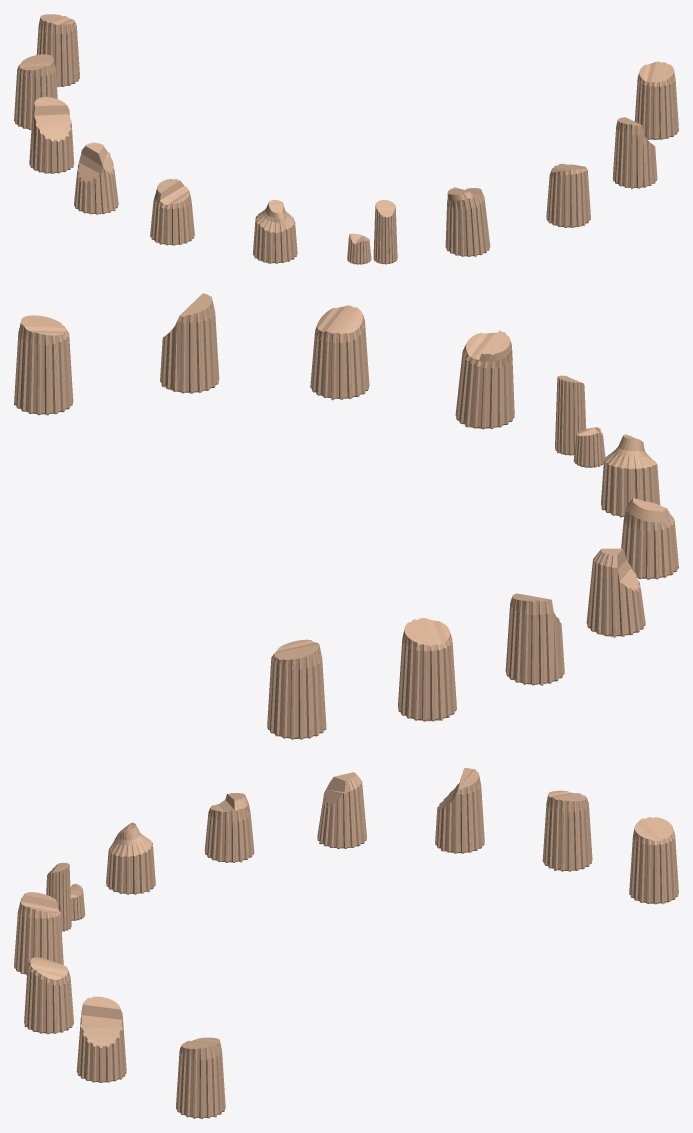
File: SwordRuinPillars.fbx
3 renders of one model, top to bottom at view 1: azimuth 30°, elevation 25°; view 2: azimuth 150°, elevation 25°; view 3: azimuth 270°, elevation 25°, orthographic. The views are drawn at different scales.
Parts seen in each view (by area): view 1: pillar; view 2: pillar; view 3: pillar.
Boxes of the visible parts, x1,y1,x2,y2 form: pillar: [14, 14, 678, 264]; pillar: [14, 293, 678, 739]; pillar: [14, 768, 678, 1118].
Bounding box in the file's own units: 9.1 × 1.02 × 8.8.
